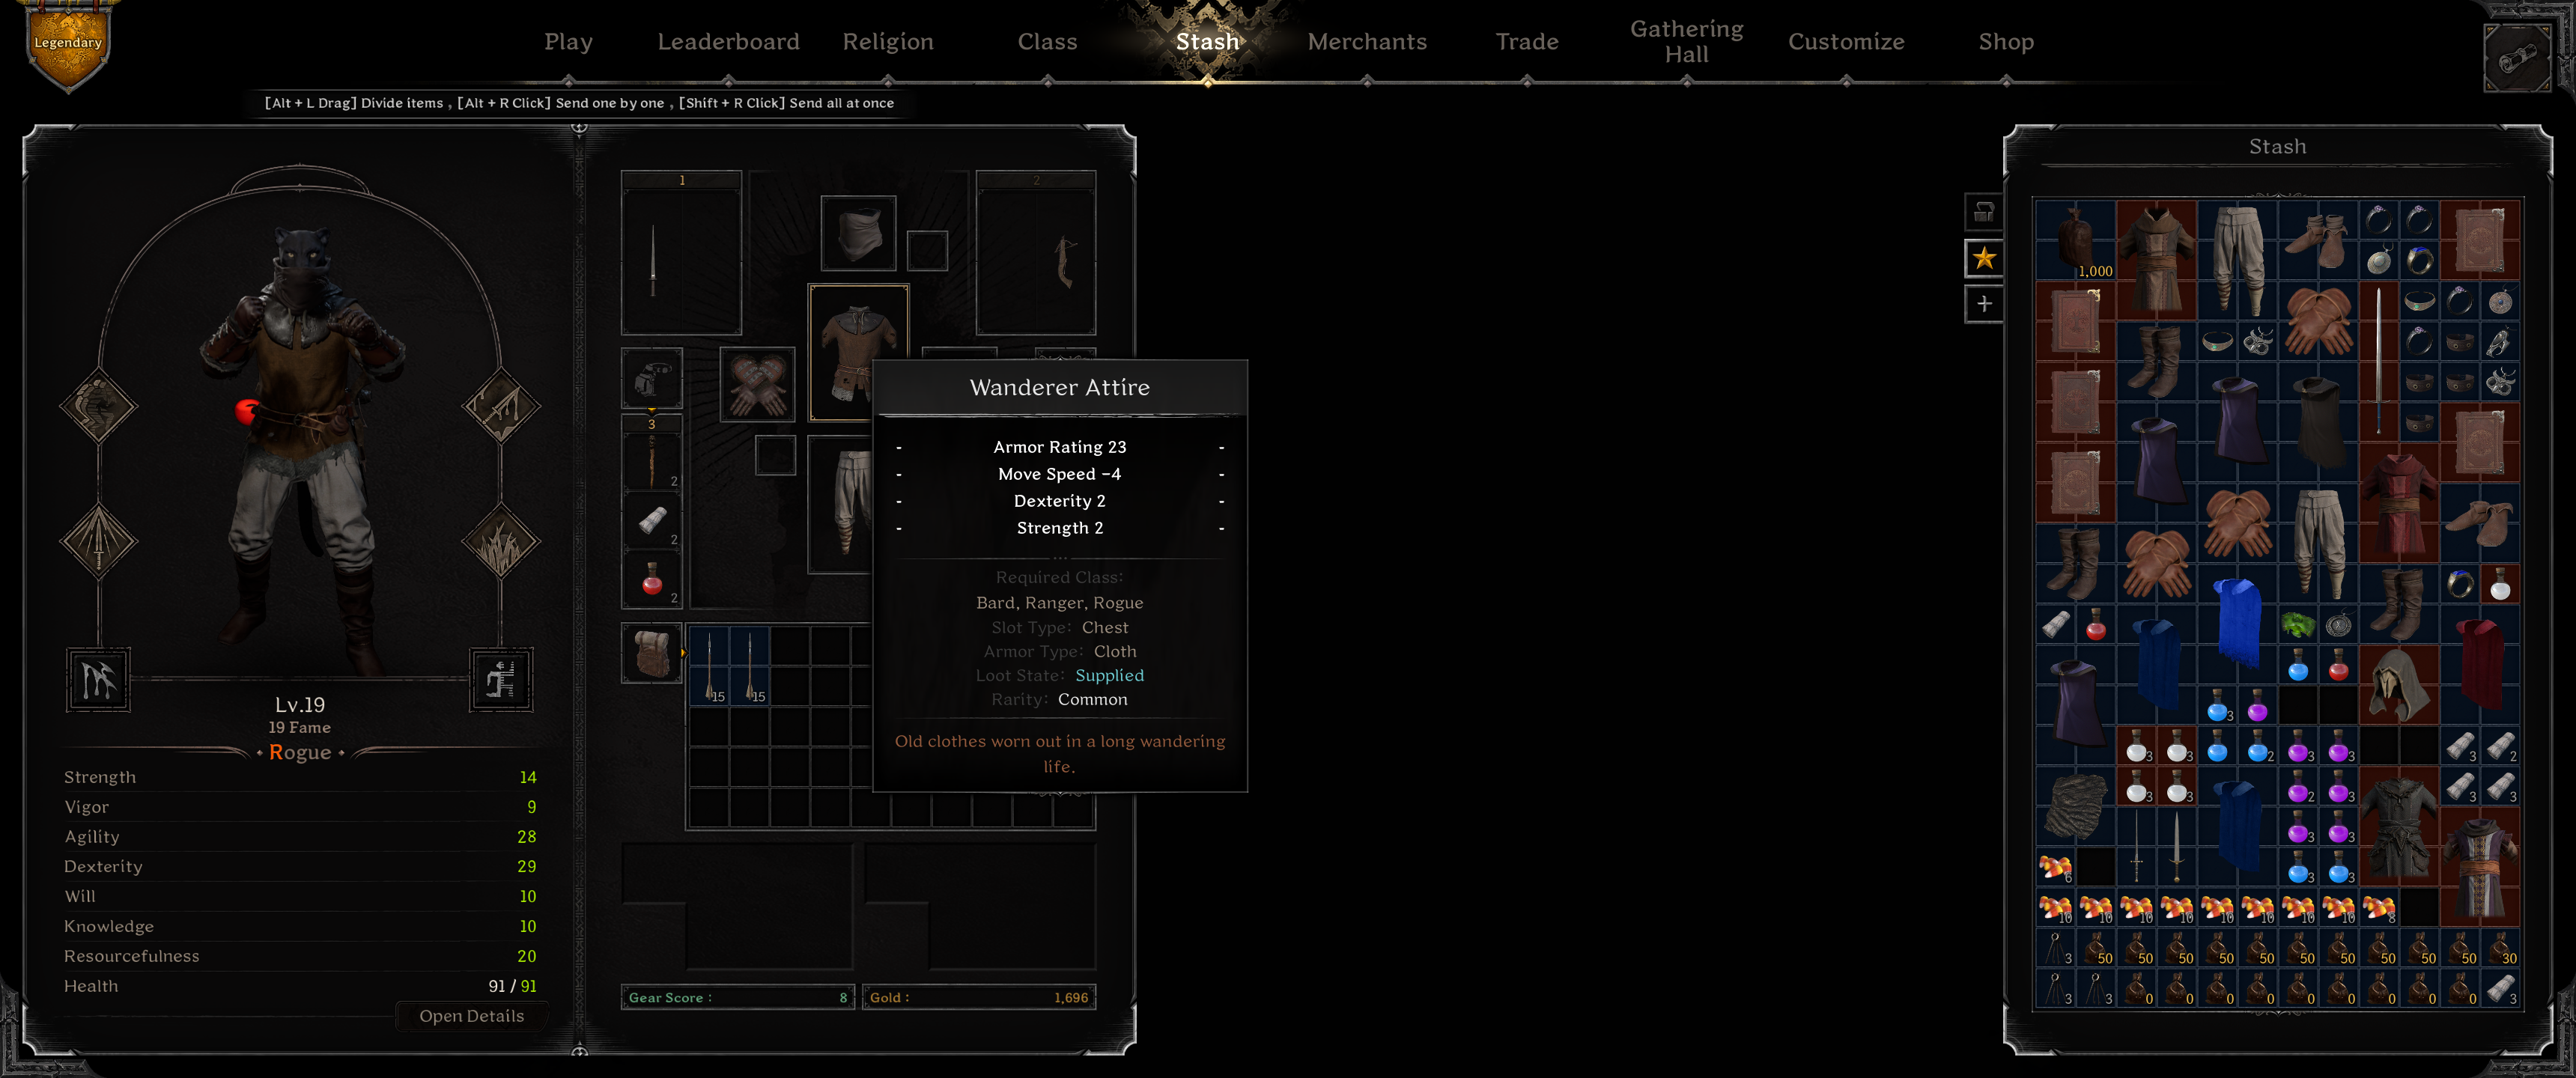Tooltip: (871, 358, 1250, 795)
